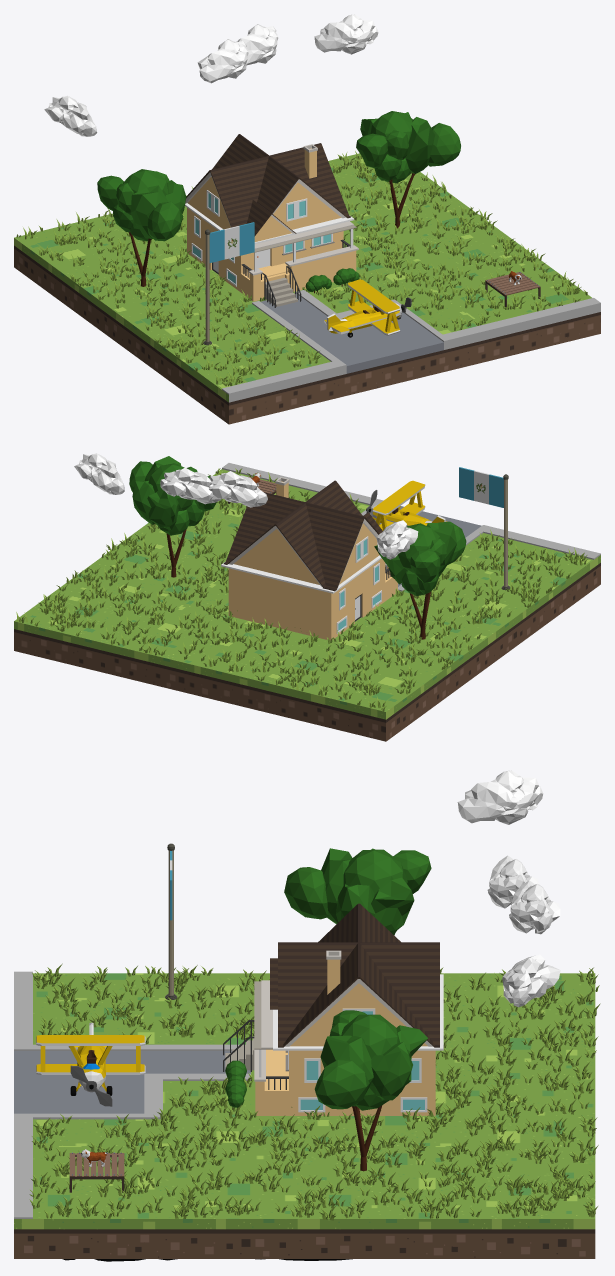
3 renders of one model, top to bottom at view 1: azimuth 30°, elevation 25°; view 2: azimuth 150°, elevation 25°; view 3: azimuth 270°, elevation 25°, orthographic. The views are drawn at different scales.
Visible parts, largest first — view 1: Cube.006, Cube.235, Circle.012_Grass_0.192, Cube.007, tree, tree.001, VEHICLES_AIRPLANE, OBJRANDOM_GUATEMALAN_FLAG, Cube.009; view 2: Cube.006, Cube.235, Circle.012_Grass_0.192, Cube.007, tree.001, tree, VEHICLES_AIRPLANE, OBJRANDOM_GUATEMALAN_FLAG; view 3: Cube.006, Circle.012_Grass_0.192, Cube.235, tree, Cube.007, tree.001, VEHICLES_AIRPLANE, Cube.009, OBJRANDOM_GUATEMALAN_FLAG.
Boxes of the visible parts, x1,y1,x2,y2 form: Cube.006: [14, 153, 600, 424]; Cube.235: [185, 134, 358, 307]; Circle.012_Grass_0.192: [16, 151, 587, 386]; Cube.007: [44, 14, 378, 136]; tree: [356, 111, 460, 228]; tree.001: [97, 169, 186, 286]; VEHICLES_AIRPLANE: [324, 279, 411, 337]; OBJRANDOM_GUATEMALAN_FLAG: [203, 222, 254, 345]; Cube.009: [485, 272, 540, 306]; Cube.006: [14, 463, 600, 741]; Cube.235: [221, 477, 397, 640]; Circle.012_Grass_0.192: [16, 468, 587, 711]; Cube.007: [74, 453, 418, 559]; tree.001: [374, 521, 466, 639]; tree: [129, 456, 216, 577]; VEHICLES_AIRPLANE: [366, 480, 446, 530]; OBJRANDOM_GUATEMALAN_FLAG: [459, 467, 510, 590]; Cube.006: [14, 971, 595, 1258]; Circle.012_Grass_0.192: [29, 963, 600, 1220]; Cube.235: [223, 903, 443, 1115]; tree: [314, 1010, 427, 1171]; Cube.007: [457, 770, 560, 1007]; tree.001: [284, 848, 431, 935]; VEHICLES_AIRPLANE: [36, 1022, 145, 1106]; Cube.009: [69, 1152, 124, 1192]; OBJRANDOM_GUATEMALAN_FLAG: [165, 843, 177, 999].
Size of the model in its own units: 4071 by 2149 by 4040.
Materials: 45 (3 with a texture image).
